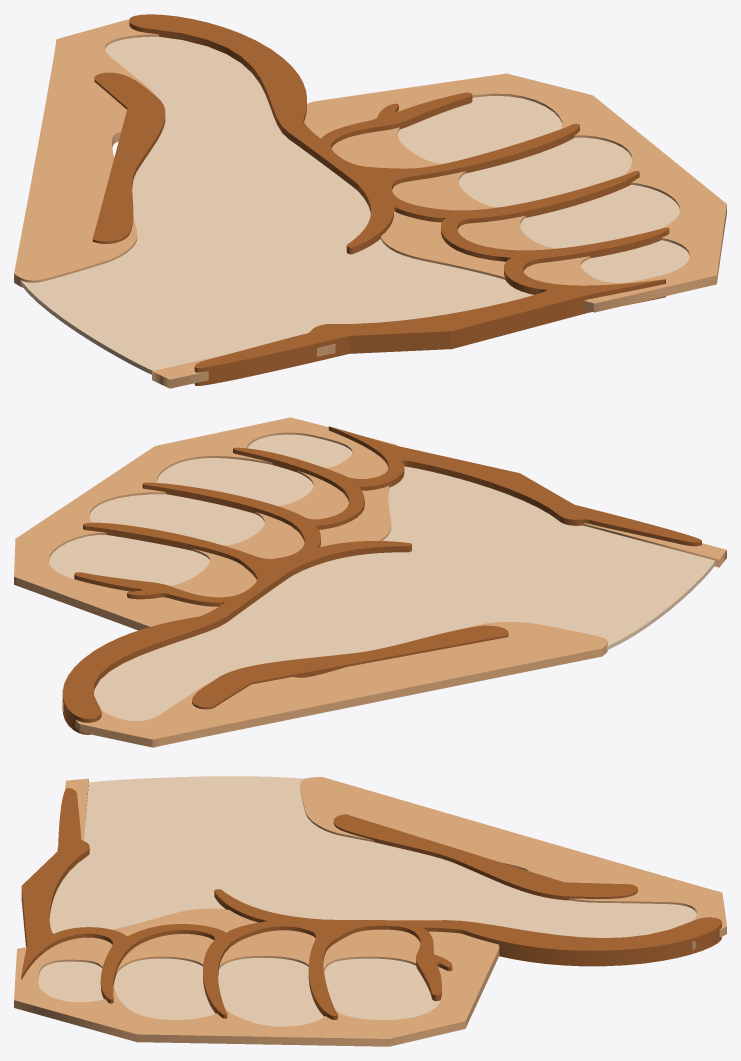
The model's file is emoji_u1f44d_1f3fb.glb.
The picture shows the model from 3 angles, top to bottom: view 1: azimuth 30°, elevation 25°; view 2: azimuth 150°, elevation 25°; view 3: azimuth 270°, elevation 25°; orthographic projection. The views are drawn at different scales.
Parts seen in each view (by area): view 1: emoji_u1f44d_1f3fb; view 2: emoji_u1f44d_1f3fb; view 3: emoji_u1f44d_1f3fb.
Boxes of the visible parts, x1,y1,x2,y2 form: emoji_u1f44d_1f3fb: [14, 14, 726, 388]; emoji_u1f44d_1f3fb: [14, 417, 726, 747]; emoji_u1f44d_1f3fb: [14, 776, 726, 1046].
Bounding box in the file's own units: 0.0292 × 0.0008 × 0.0332.
